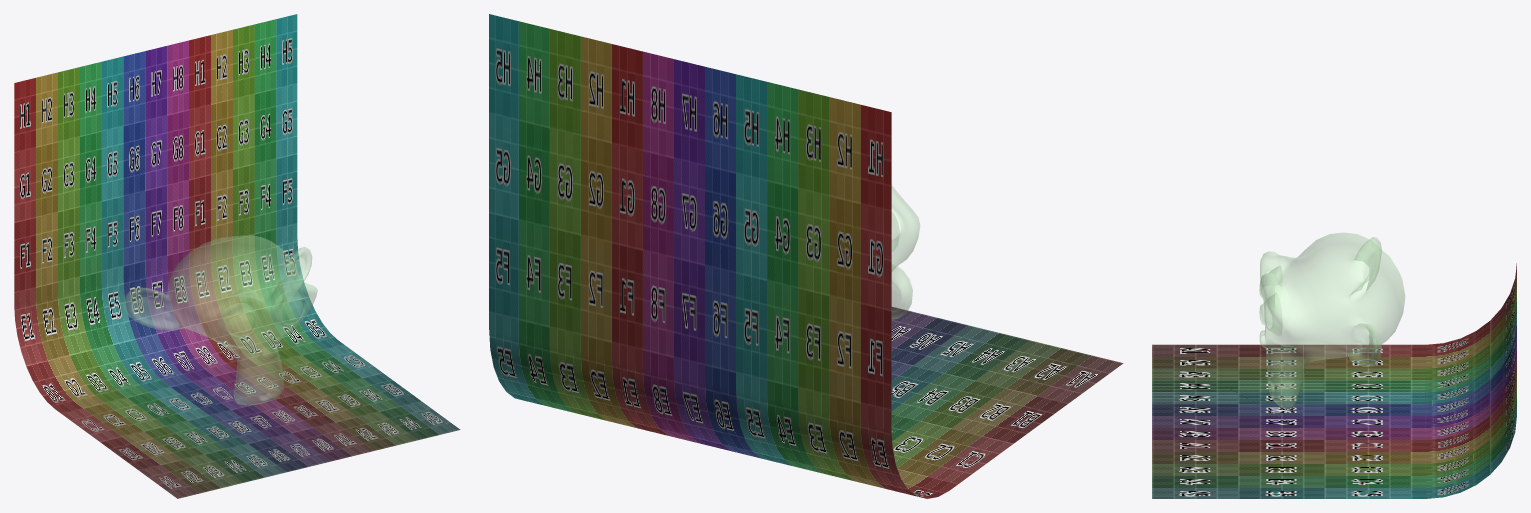
Rendered from renderingtest.glb.
3 renders of one model, left to right at view 1: azimuth 30°, elevation 25°; view 2: azimuth 150°, elevation 25°; view 3: azimuth 270°, elevation 25°, orthographic. The views are drawn at different scales.
Parts seen in each view (by area): view 1: Plane, Suzanne; view 2: Plane, Suzanne; view 3: Plane, Suzanne.
Boxes of the visible parts, x1=… form: Plane: x1=14, y1=14, x2=460, y2=498; Suzanne: x1=124, y1=236, x2=317, y2=404; Plane: x1=489, y1=14, x2=1123, y2=498; Suzanne: x1=891, y1=185, x2=919, y2=319; Plane: x1=1152, y1=263, x2=1516, y2=498; Suzanne: x1=1259, y1=232, x2=1404, y2=408.
Size of the model in its own units: 2 by 2 by 2.
2 materials, 1 textured.
